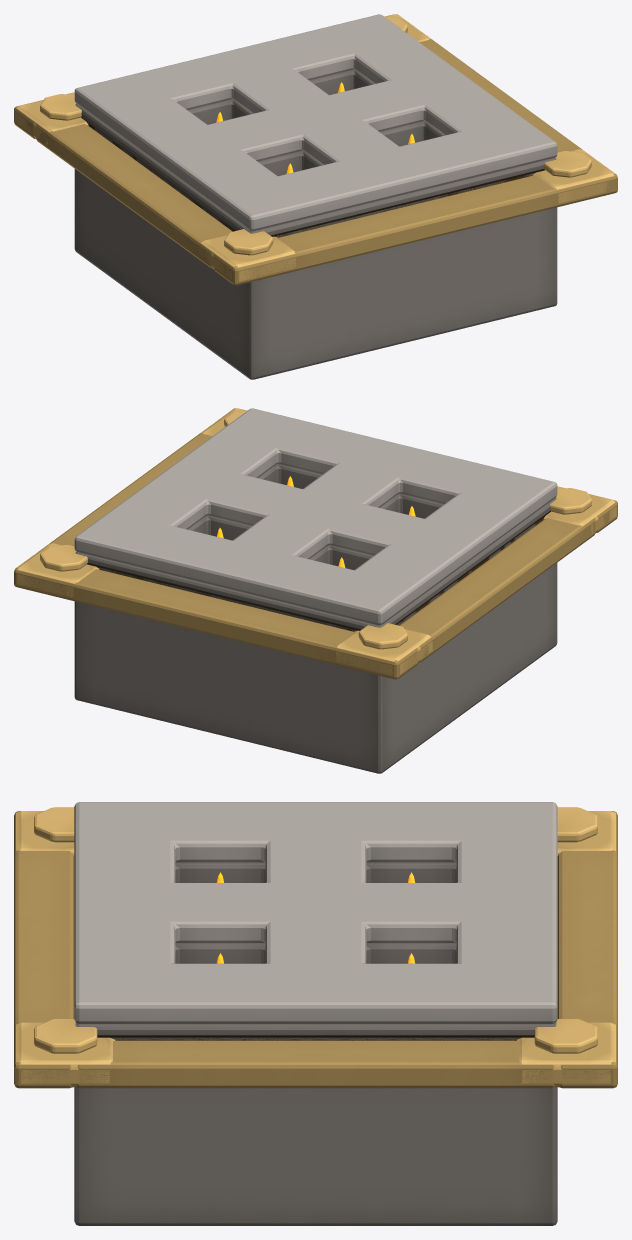
Rendered from board_spikes_3.glb.
3 renders of one model, top to bottom at view 1: azimuth 30°, elevation 25°; view 2: azimuth 150°, elevation 25°; view 3: azimuth 270°, elevation 25°, orthographic. The views are drawn at different scales.
Visible parts, largest first — view 1: Plate, BaseFloor, Gold1, Base, Gold3, Bolt3, Gold2, Bolt2, Bolt1, BoltT3, GoldLine1, BoltT2 (+1 smaller); view 2: Plate, BaseFloor, Gold0, Base, Gold3, Bolt1, Gold2, Bolt0, Bolt3, BoltT1, BoltT0, GoldLine0 (+2 smaller); view 3: Plate, BaseFloor, Gold2, Base, Gold1, Gold0, Bolt0, Bolt2, GoldLine2, BoltT0, BoltT2, BoltT1 (+3 smaller).
Part boxes in pixels (x1,y1,x2,y2): Plate: (74,14,557,231); BaseFloor: (74,169,557,379); Gold1: (214,171,617,285); Base: (75,69,556,237); Gold3: (36,124,232,268); Bolt3: (199,235,295,281); Gold2: (419,32,582,152); Bolt2: (532,149,614,203); Bolt1: (15,92,88,145); BoltT3: (224,229,273,255); GoldLine1: (271,169,544,237); BoltT2: (544,151,591,177); Plate: (74,408,557,625); BaseFloor: (74,563,557,773); Gold0: (14,565,417,679); Base: (75,463,556,631); Gold3: (399,518,595,662); Bolt1: (336,629,432,675); Gold2: (49,426,212,546); Bolt0: (17,543,99,597); Bolt3: (543,486,616,533); BoltT1: (358,623,407,649); BoltT0: (40,545,87,571); GoldLine0: (87,563,360,631); Plate: (74,802,557,1023); BaseFloor: (74,1087,557,1225); Gold2: (76,1040,555,1088); Base: (75,862,556,1040); Gold1: (14,811,74,1088); Gold0: (557,811,617,1088); Bolt0: (516,1022,615,1087); Bolt2: (16,1022,115,1087); GoldLine2: (97,1035,534,1040); BoltT0: (534,1019,597,1053); BoltT2: (34,1019,97,1053); BoltT1: (557,807,597,842).
Size of the model in its own units: 1 by 0.452 by 1.
